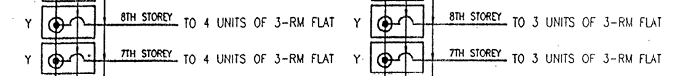Single Phase Tap-Off Unit: (32, 2, 101, 42), (365, 1, 429, 38), (36, 40, 100, 75), (368, 40, 430, 76)
